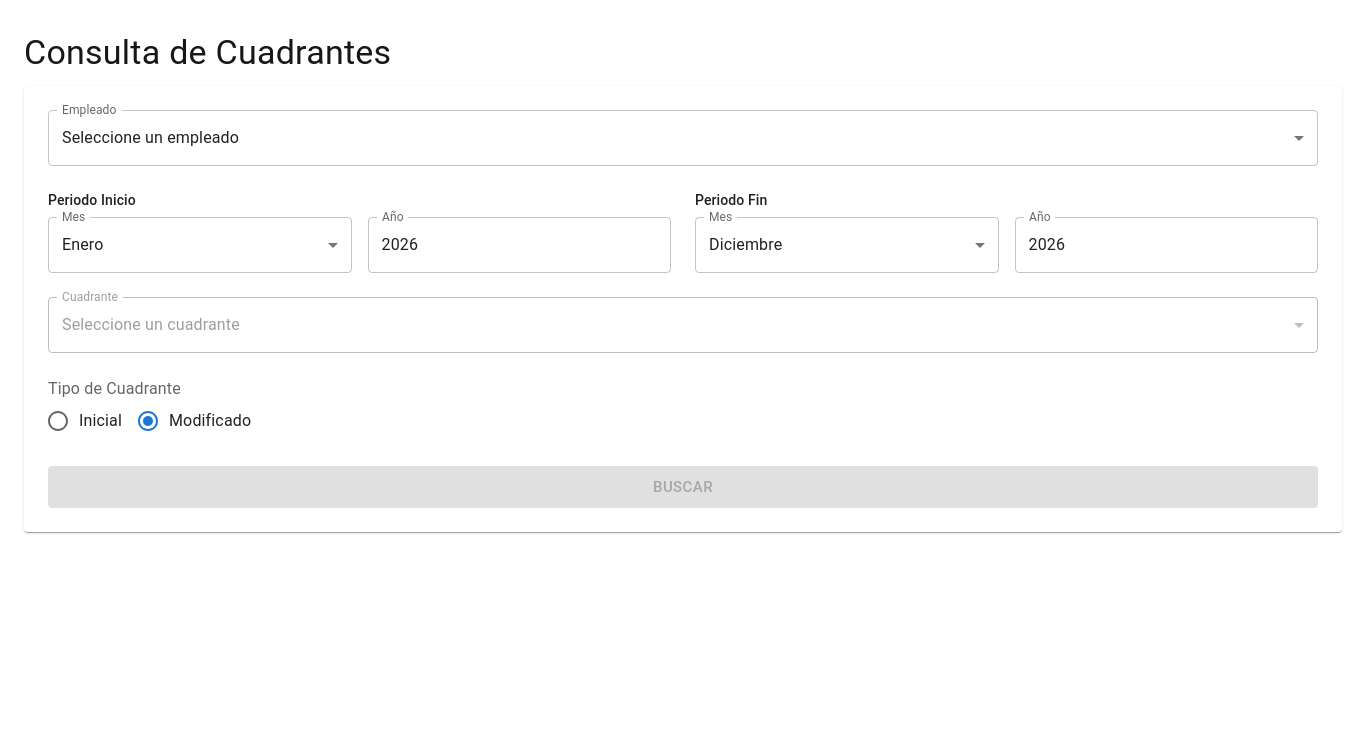
Test: ConsultaCuadrantesPage › Realizar Consulta › debería mostrar resultados en tabla cuando la consulta es exitosa
Step 1. Click the dropdown "Seleccione un empleado" → coordinates (151, 138), box [62,128,239,147]
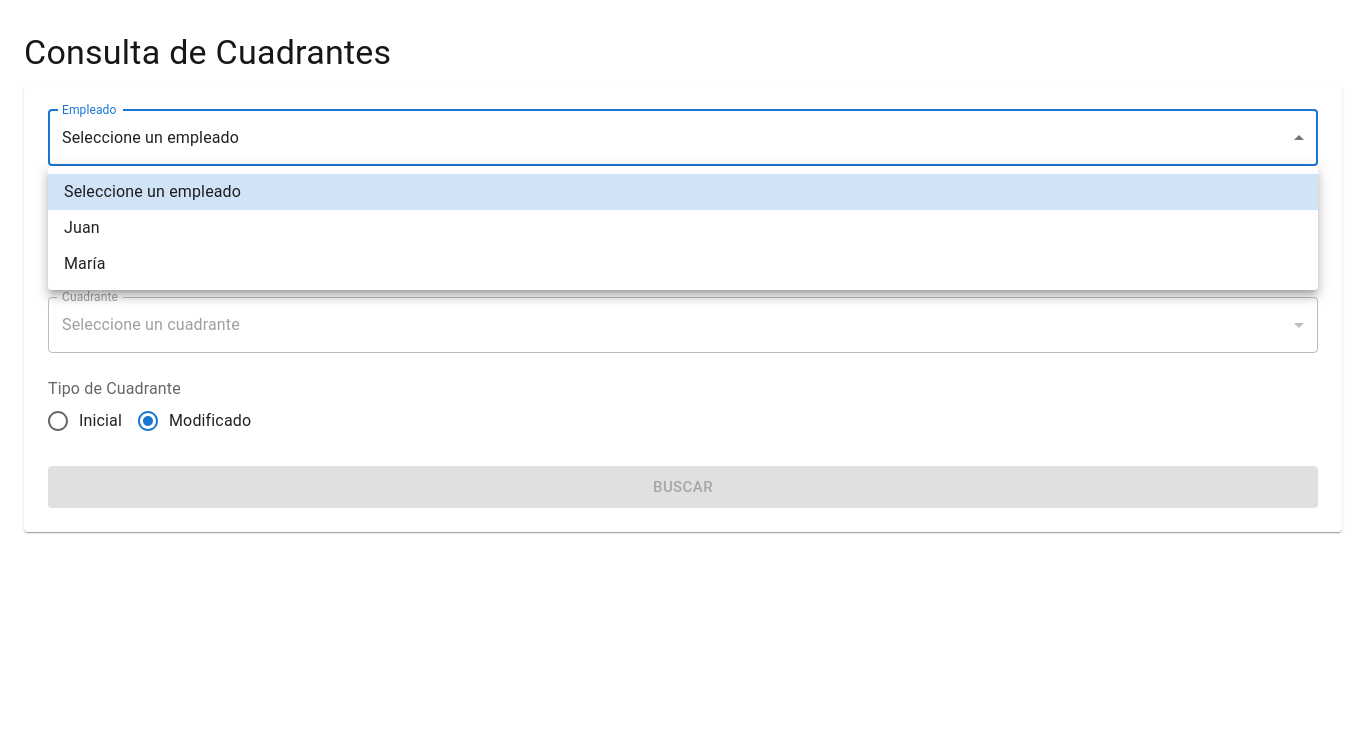
Step 2. Click the option "Juan" → coordinates (82, 228), box [64,218,100,237]
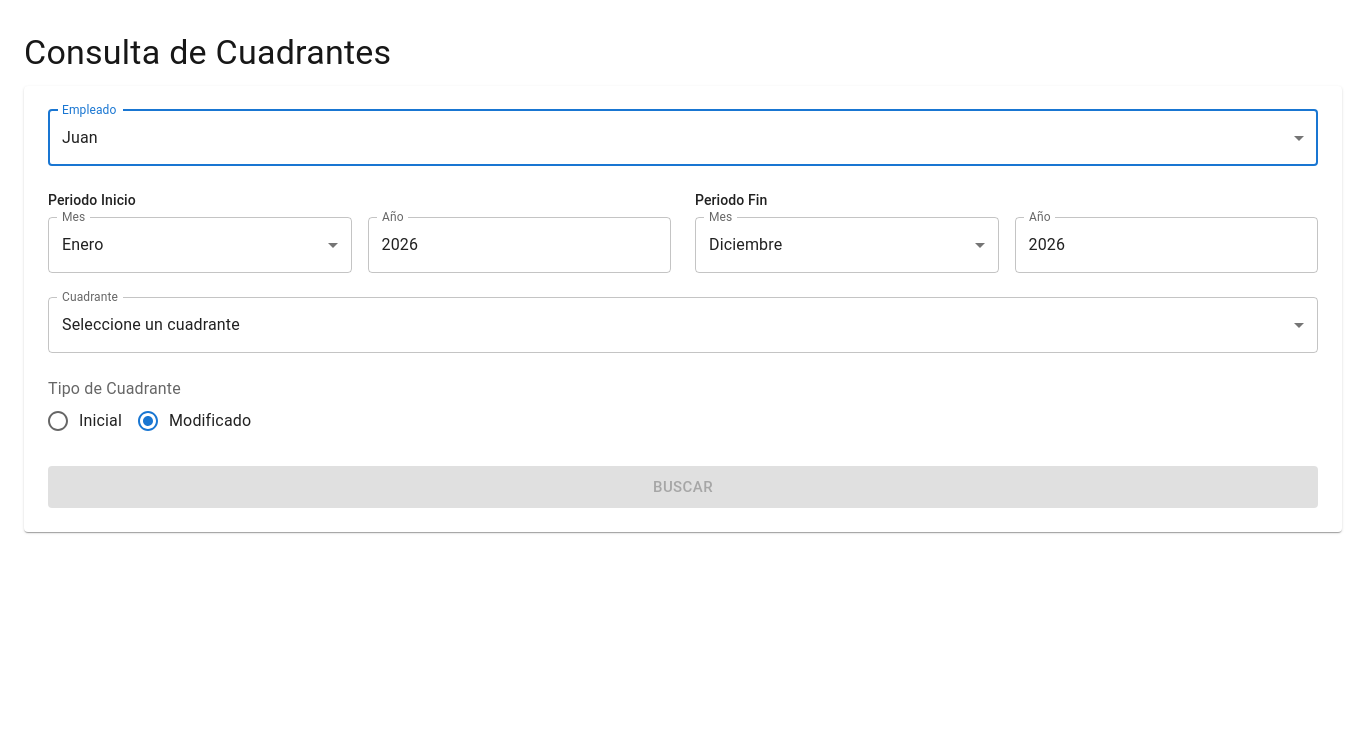
Step 3. Click the dropdown "Seleccione un cuadrante" → coordinates (151, 325), box [62,315,240,334]
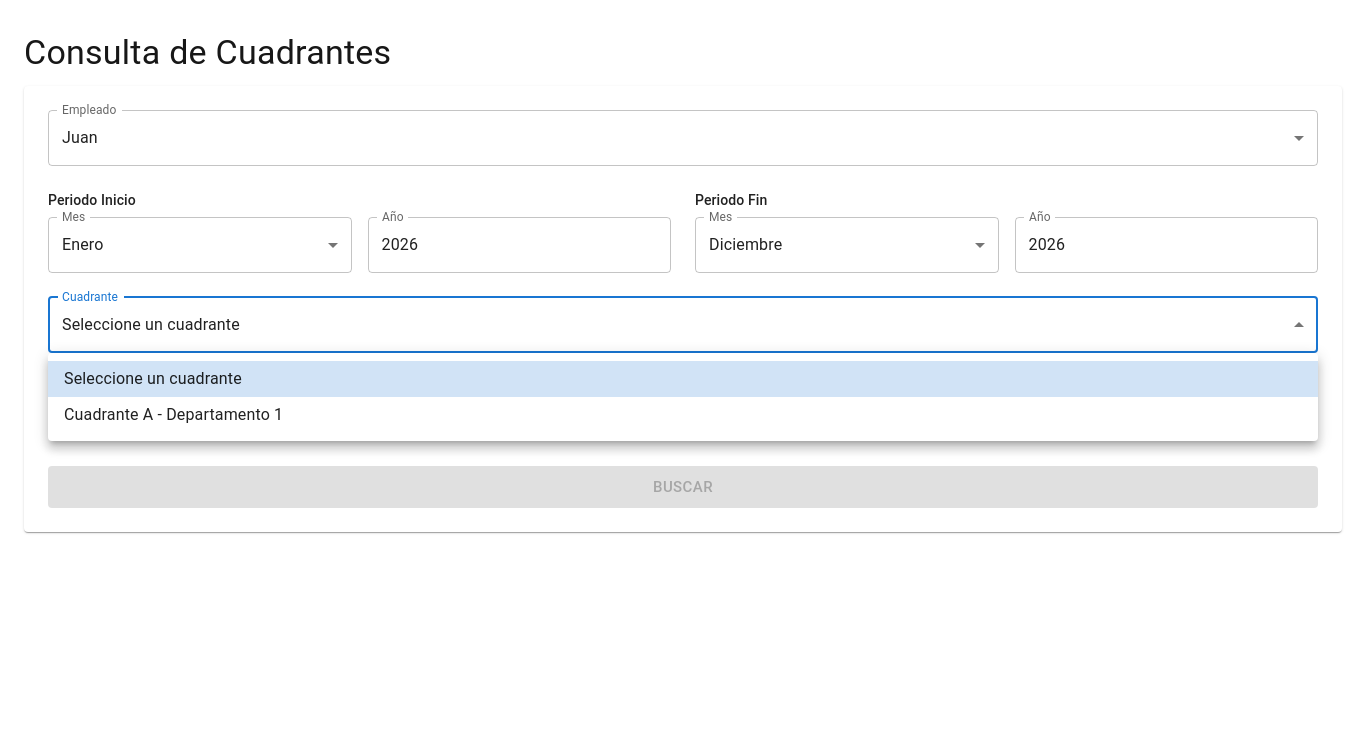
Step 4. Click the option "Cuadrante A - Departamento 1" → coordinates (174, 414), box [64,405,283,424]
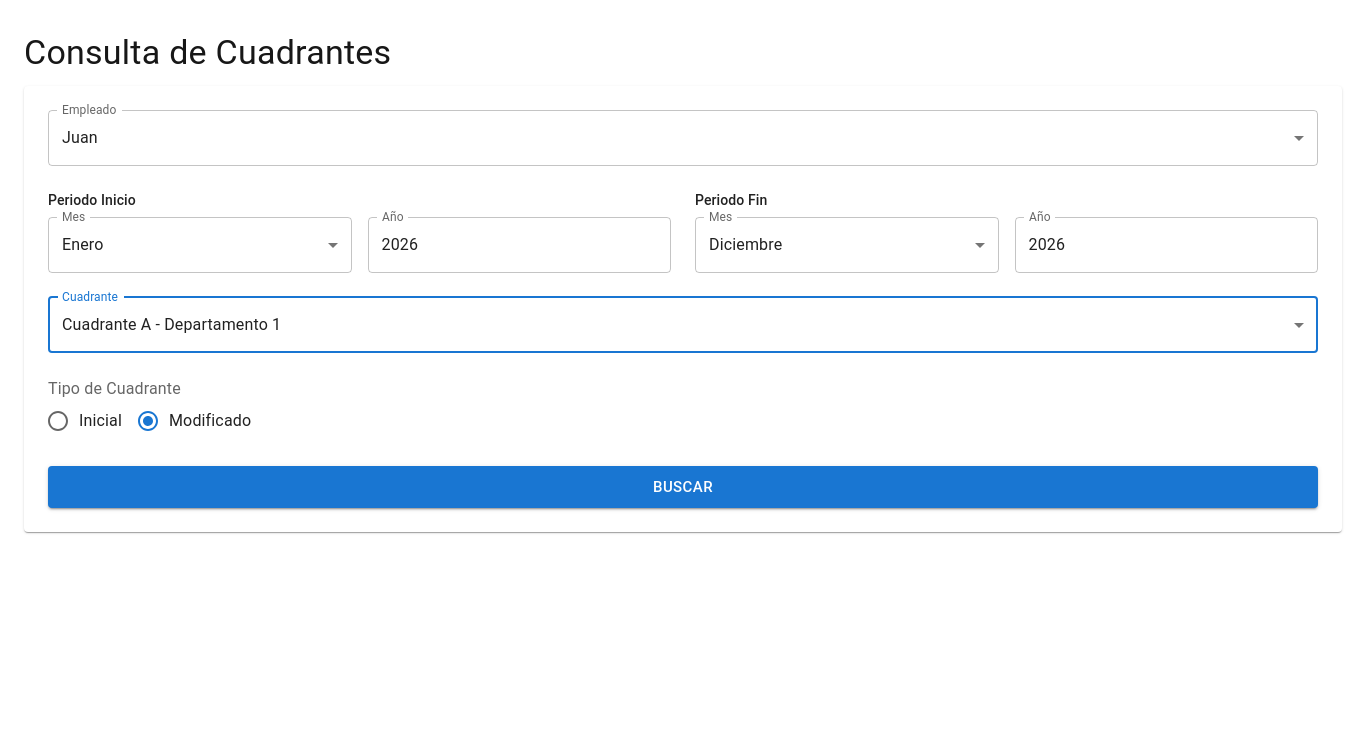
Step 5. Click the button "Buscar" → coordinates (683, 487), box [48,466,1318,508]
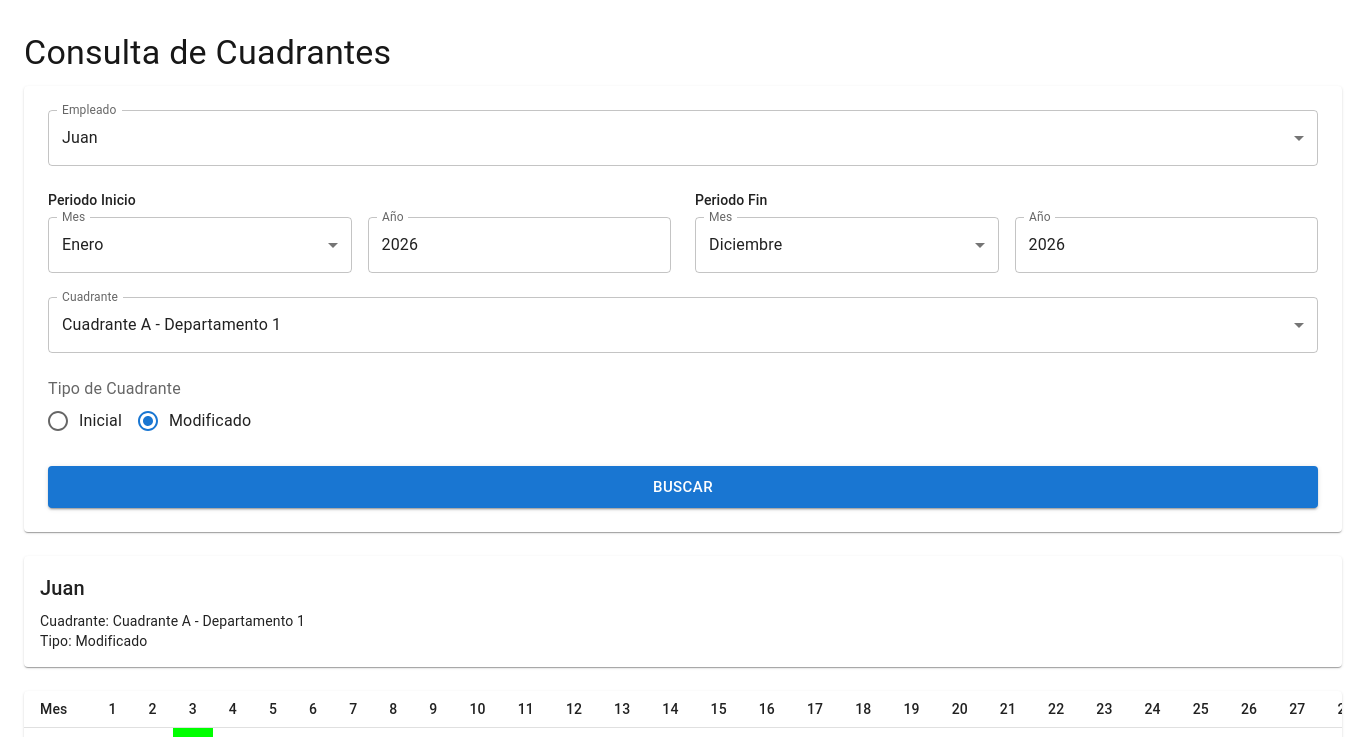
Expected: the heading "Juan" is shown, [40,576,85,600]
